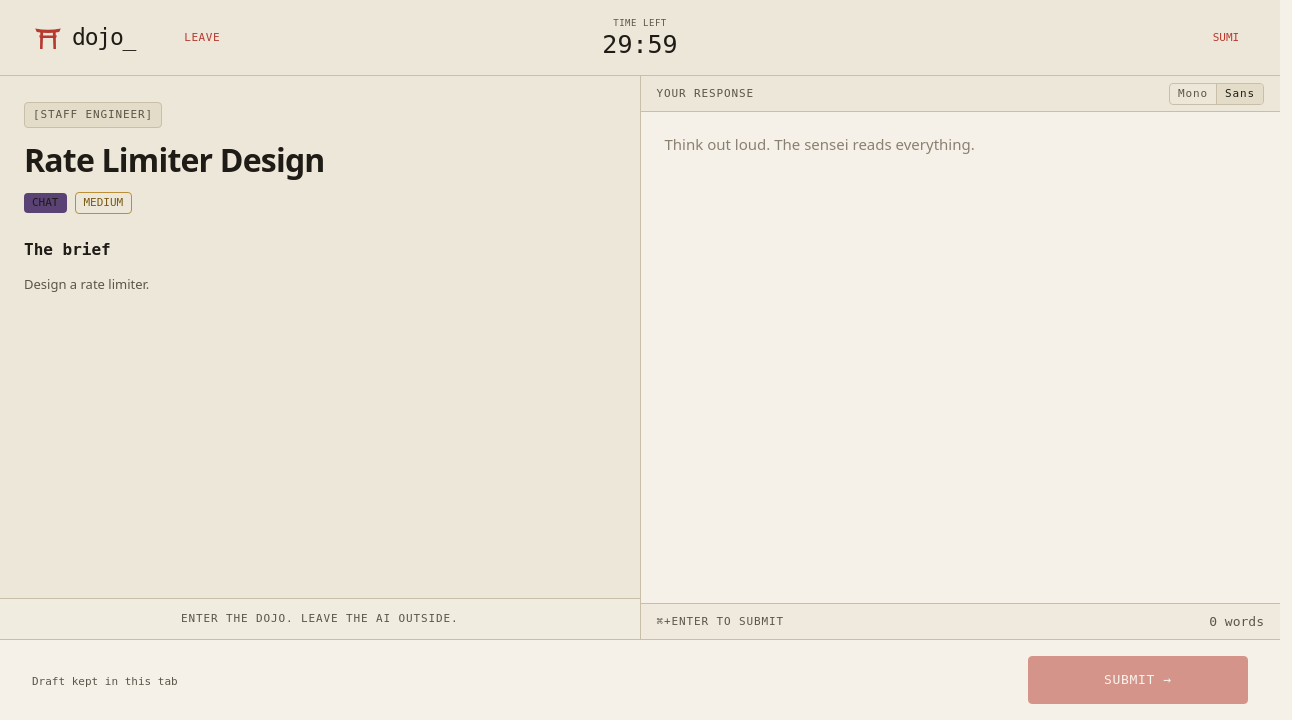
Scenario: KataActivePage › clears the failure once the learner changes the answer
Check: the heading "Rate Limiter Design" is shown, box 24,138 -> 325,181
Type "Token bucket." into the text box.
click(960, 358); type("Token bucket.")  # box 640,112 -> 1280,603
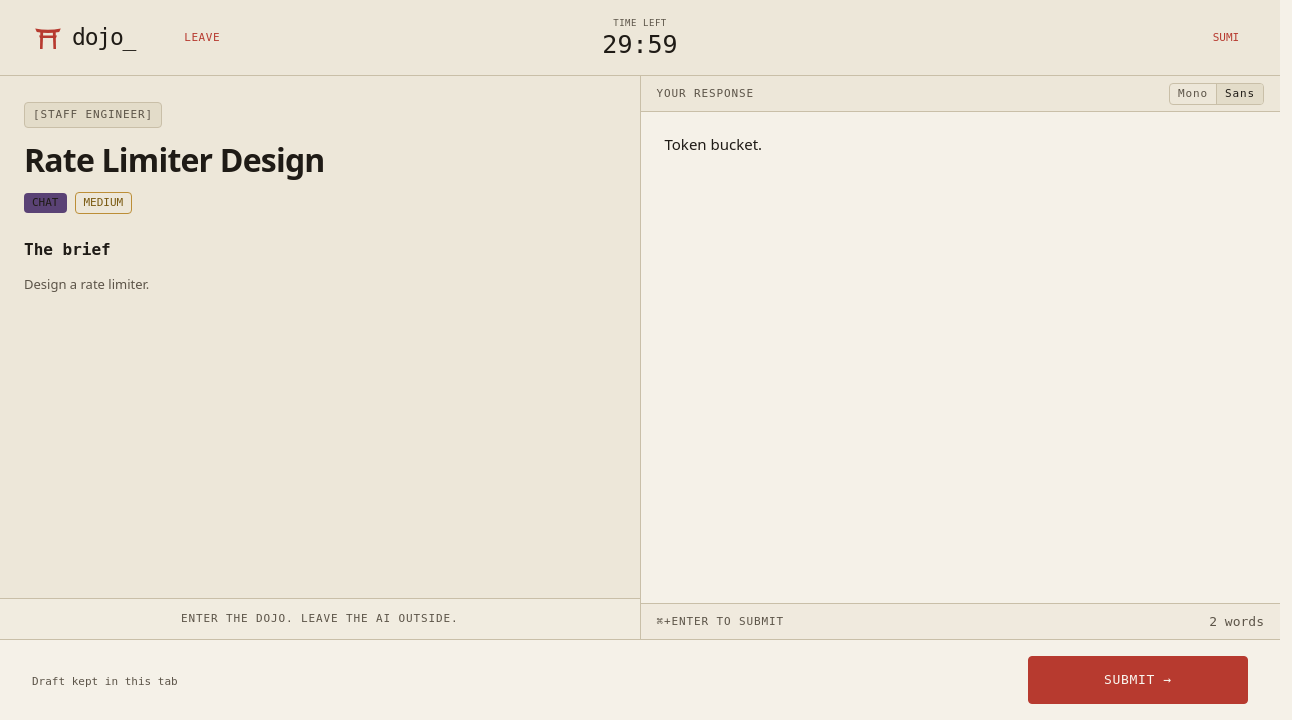
Click the button "Submit →".
click(1138, 680)  # box 1028,656 -> 1248,704
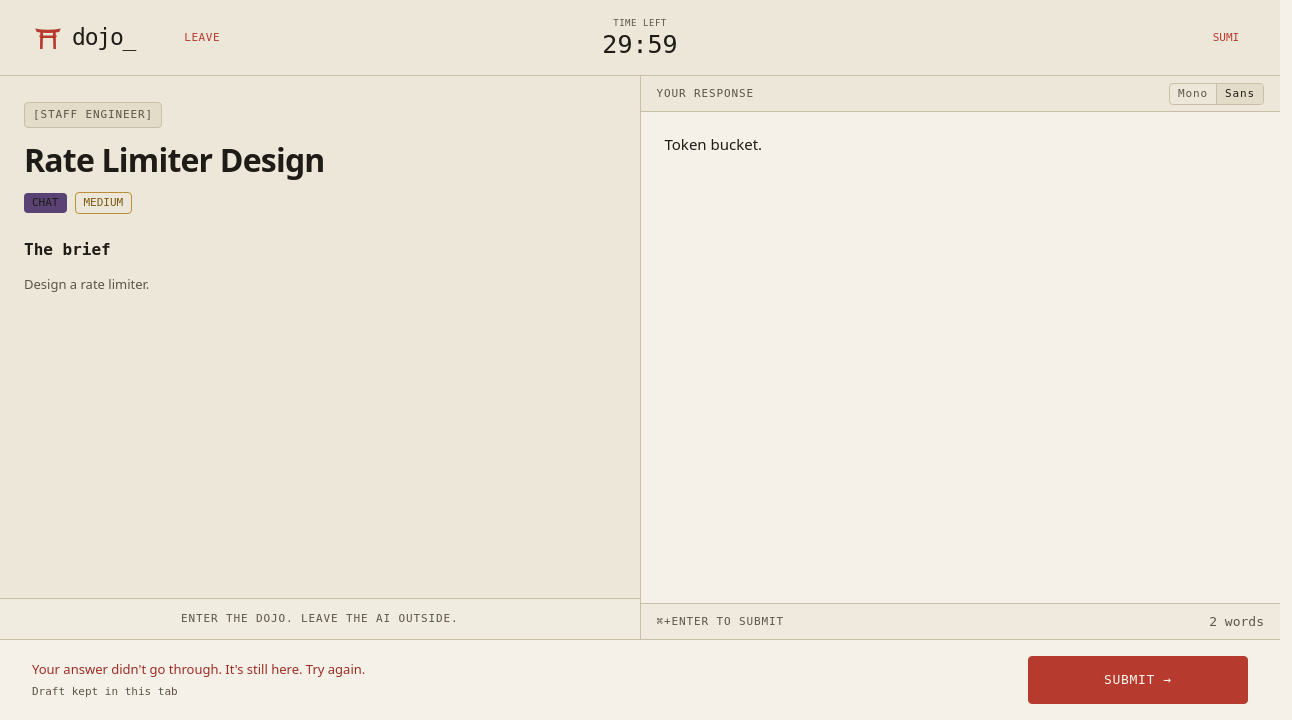
Check: the message "Your answer didn't go through. It's still here. Try again." is shown, box 32,659 -> 365,679
Replace the text in the text box with "Leaky bucket." at (960, 358), box 640,112 -> 1280,603
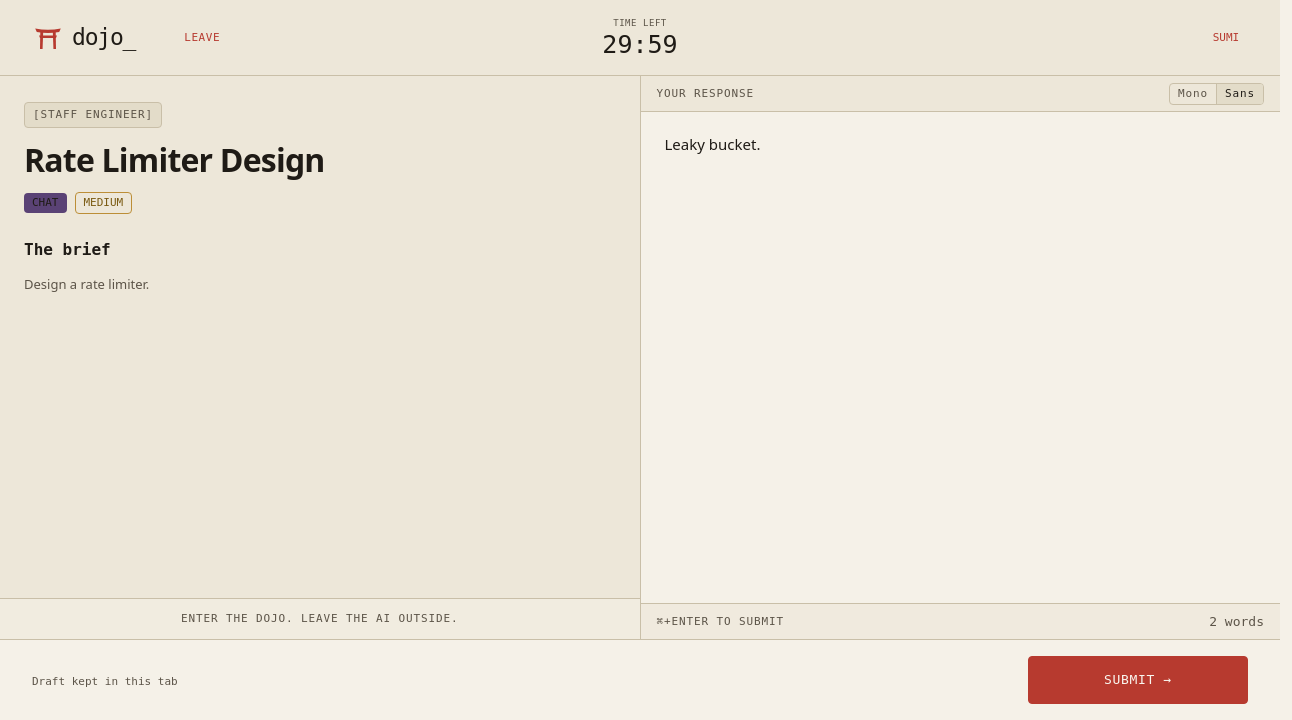
Check: the message "Your answer didn't go through. It's still here. Try again." is gone
